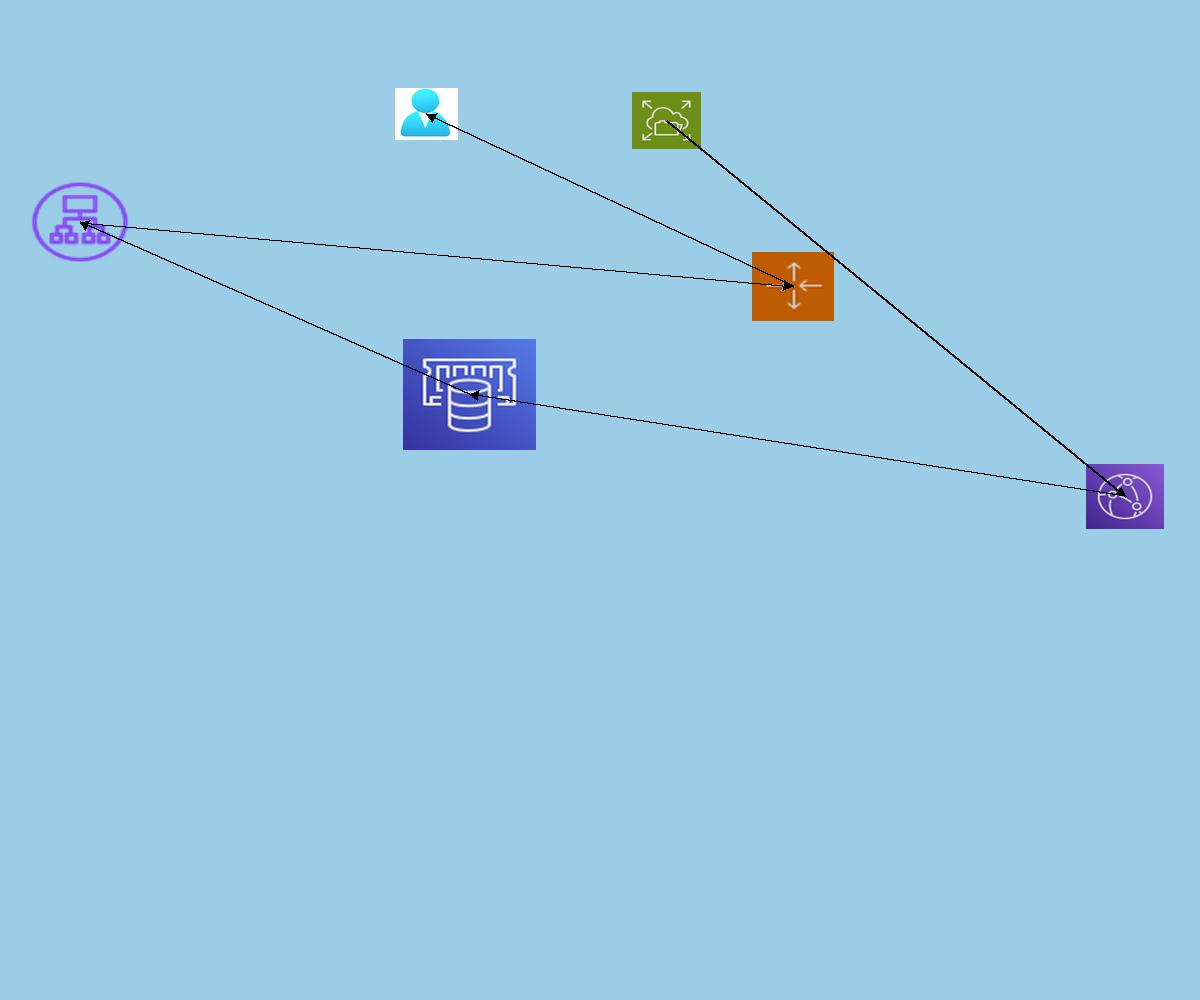AWS-CloudFront: (1086, 464, 1164, 529)
AWS-EFS: (632, 92, 701, 149)
AWS-ElastiCache: (403, 339, 536, 450)
AWS-Res_Elastic-Load-Balancing_Application-Load-Balancer: (28, 179, 132, 265)
AWS-Scaling-group: (752, 252, 834, 321)
Azure_users: (395, 88, 458, 140)
